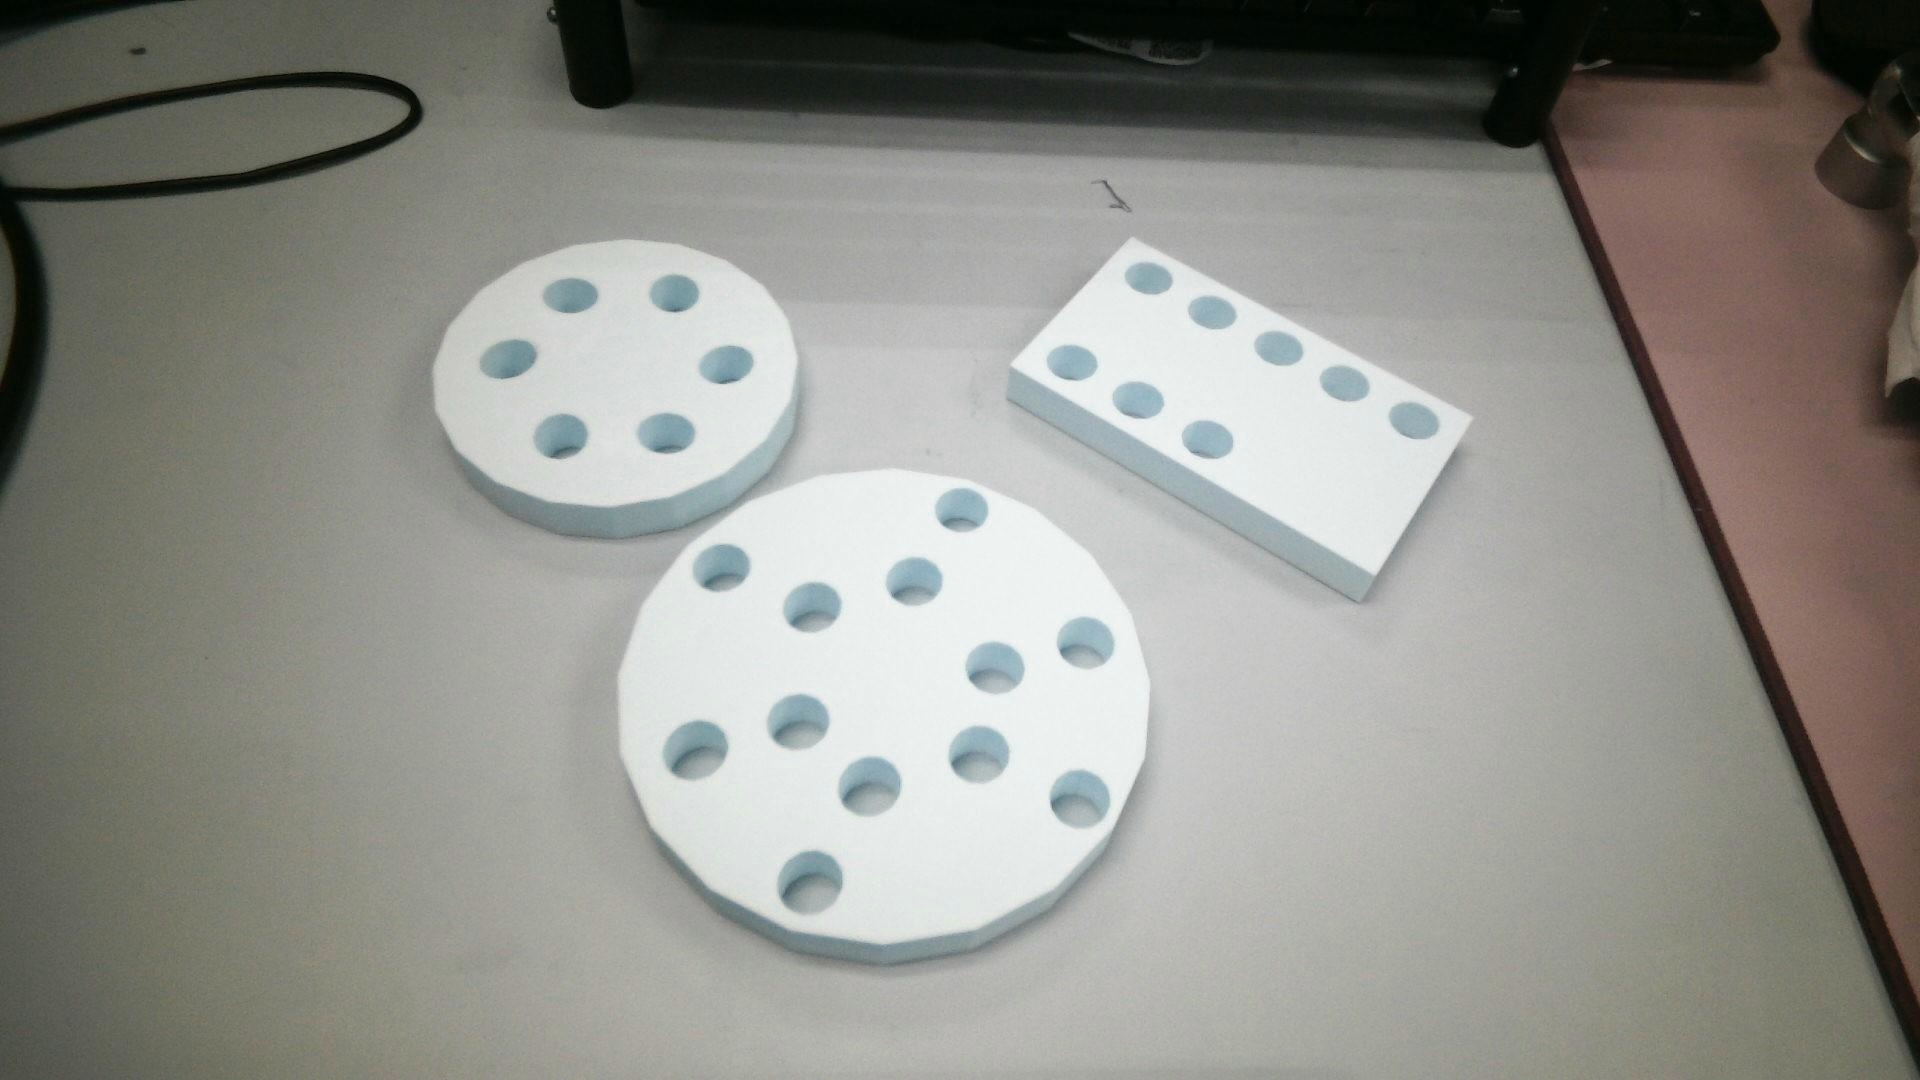hole: (771, 843, 847, 924), (833, 752, 901, 822), (1043, 766, 1110, 828), (662, 721, 732, 778), (761, 692, 832, 745), (945, 727, 1007, 785), (1056, 611, 1113, 671), (963, 638, 1023, 694), (688, 545, 752, 596), (781, 582, 843, 633), (885, 559, 945, 609), (1174, 417, 1237, 464), (533, 411, 589, 464), (930, 488, 992, 534), (539, 276, 601, 316), (1317, 357, 1367, 407), (637, 411, 694, 455), (1184, 286, 1241, 330), (698, 342, 752, 385), (476, 338, 533, 378), (1387, 404, 1443, 444), (1044, 339, 1096, 382), (1112, 378, 1160, 423), (650, 272, 700, 315), (1250, 328, 1302, 369), (1127, 264, 1178, 295)
obj: (609, 463, 1172, 963), (1000, 239, 1484, 616), (435, 243, 796, 545)
